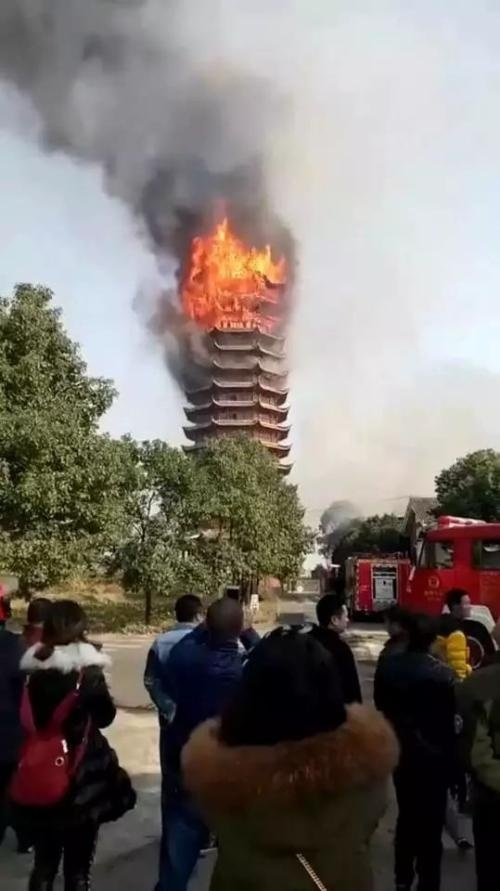fire: (172, 209, 290, 329)
